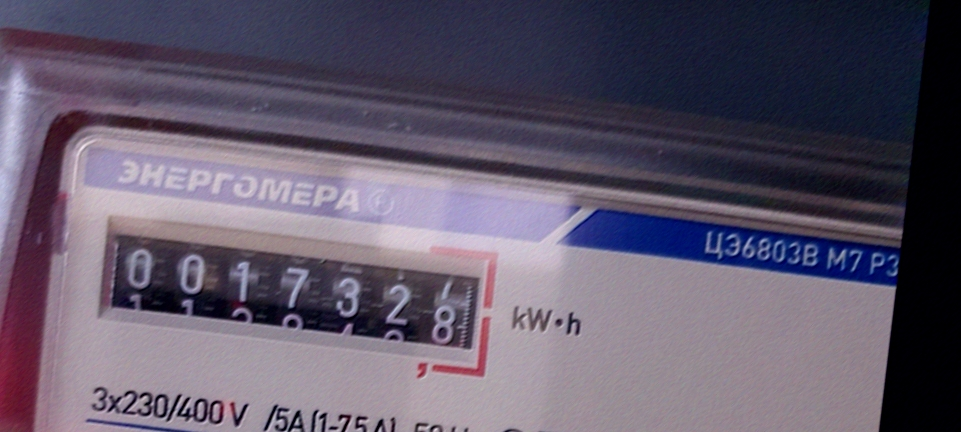0: (122, 246, 159, 294), (176, 250, 210, 299)
1: (229, 258, 256, 306)
2: (381, 282, 415, 330)
3: (332, 275, 364, 322)
7: (279, 265, 311, 314)
8: (428, 303, 458, 348)
screen: (85, 209, 507, 385)
